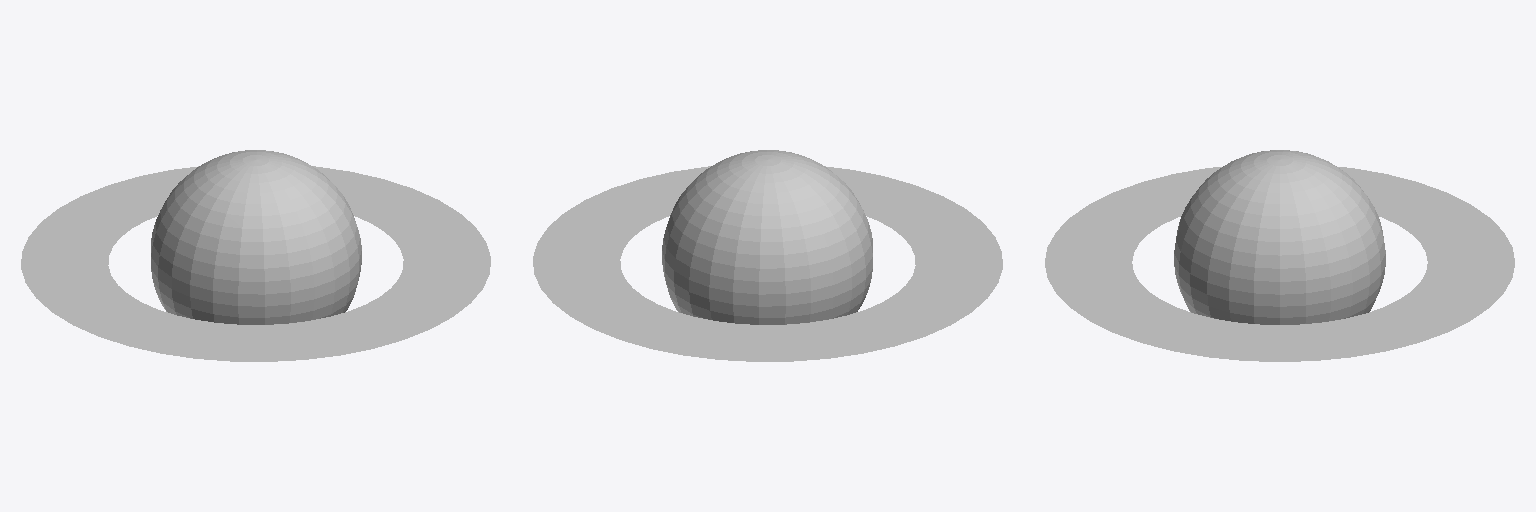
Rendered from saturn.obj.
3 views of the same model, side by side, from view 1: azimuth 30°, elevation 25°; view 2: azimuth 150°, elevation 25°; view 3: azimuth 270°, elevation 25° (orthographic).
Visible parts, largest first — view 1: saturn saturn, saturnRing1 saturn, saturn saturnRing; view 2: saturn saturn, saturnRing1 saturn, saturn saturnRing; view 3: saturn saturn, saturnRing1 saturn, saturn saturnRing.
Boxes of the visible parts, x1=… form: saturn saturn: x1=151, y1=150, x2=361, y2=324; saturnRing1 saturn: x1=21, y1=166, x2=490, y2=361; saturn saturnRing: x1=21, y1=166, x2=490, y2=361; saturn saturn: x1=662, y1=150, x2=872, y2=324; saturnRing1 saturn: x1=533, y1=166, x2=1002, y2=361; saturn saturnRing: x1=533, y1=167, x2=1002, y2=361; saturn saturn: x1=1174, y1=150, x2=1385, y2=324; saturnRing1 saturn: x1=1045, y1=167, x2=1514, y2=361; saturn saturnRing: x1=1045, y1=167, x2=1514, y2=361.
Bounding box in the file's own units: 86.24 × 38.94 × 86.24.